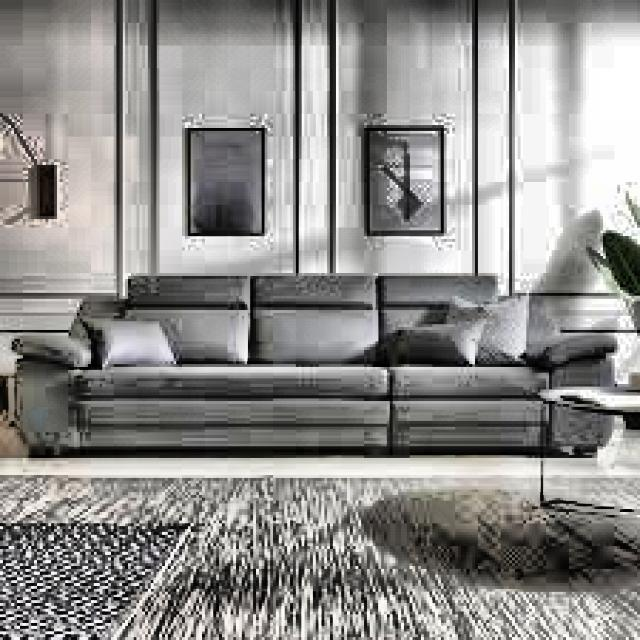sofa: (9, 270, 617, 475)
